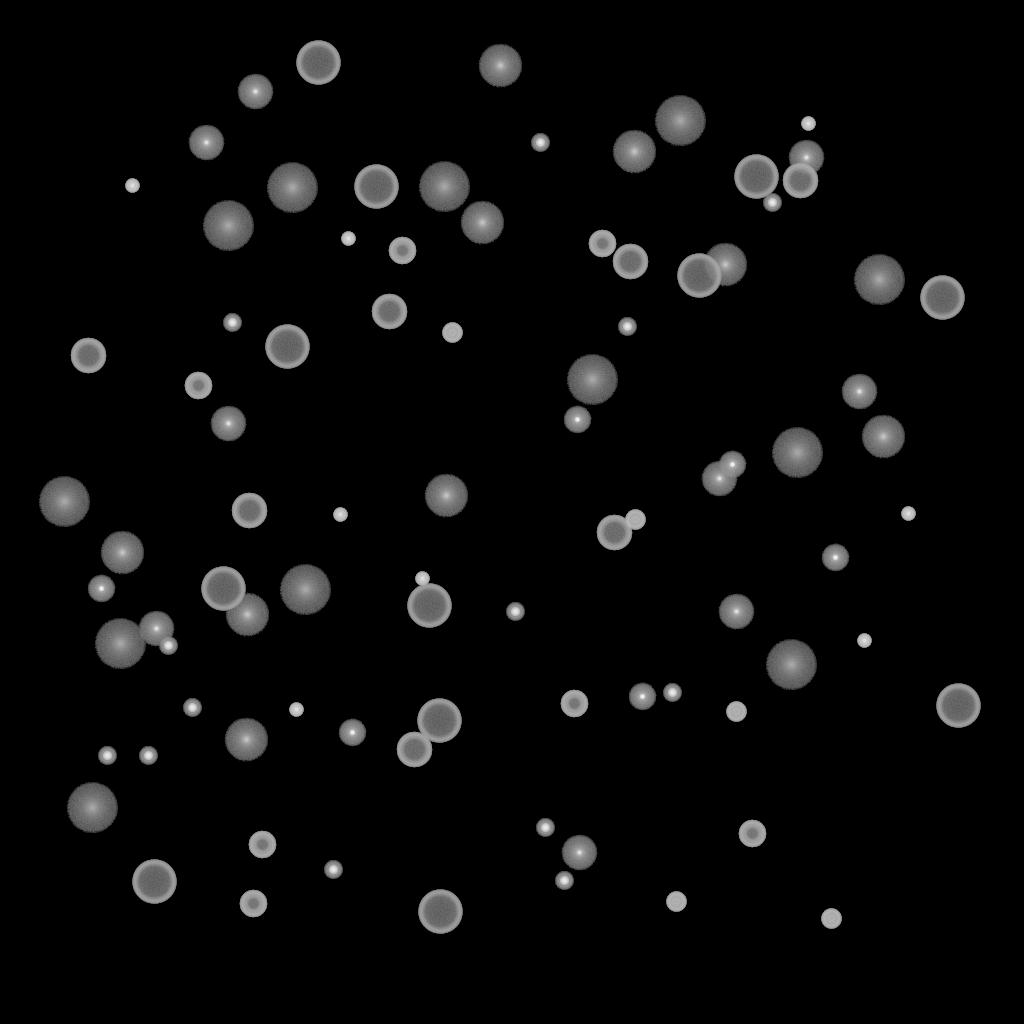depth:-10: (563, 406, 591, 434), (338, 719, 366, 747), (718, 451, 746, 479), (87, 575, 115, 603), (821, 544, 849, 572), (628, 683, 656, 711)
depth:-20: (531, 134, 549, 152), (183, 699, 201, 717), (618, 318, 636, 336), (663, 684, 681, 702), (159, 637, 177, 655), (324, 861, 342, 879), (223, 314, 241, 332), (139, 747, 157, 765), (555, 872, 573, 890), (506, 603, 524, 621), (763, 194, 781, 212), (536, 819, 554, 837), (98, 747, 116, 765)
depth:-30: (289, 703, 303, 717), (857, 634, 871, 648), (415, 572, 429, 586), (341, 232, 355, 246), (901, 507, 915, 521), (125, 179, 139, 193), (801, 117, 815, 131), (333, 508, 347, 522)
depth:-40: (625, 510, 645, 530), (821, 909, 841, 929), (666, 892, 686, 912), (442, 323, 462, 343), (726, 702, 746, 722)
depth:-50: (388, 237, 416, 265), (560, 690, 588, 718), (738, 820, 766, 848), (184, 372, 212, 400), (239, 890, 267, 918), (248, 831, 276, 859), (588, 230, 616, 258)
depth:-60: (231, 493, 267, 529), (371, 294, 407, 330), (612, 244, 648, 280), (596, 515, 632, 551), (782, 163, 818, 199), (70, 338, 106, 374), (396, 732, 432, 768)
depth:-70: (354, 165, 398, 209), (920, 276, 964, 320), (296, 41, 340, 85), (677, 254, 721, 298), (132, 860, 176, 904), (201, 567, 245, 611), (407, 584, 451, 628), (418, 890, 462, 934), (265, 325, 309, 369), (734, 155, 778, 199), (936, 684, 980, 728), (417, 699, 461, 743)
depth:0: (561, 835, 597, 871), (841, 374, 877, 410), (210, 406, 246, 442), (788, 140, 824, 176), (237, 74, 273, 110), (701, 461, 737, 497), (188, 125, 224, 161), (138, 611, 174, 647), (718, 594, 754, 630)
depth:10: (703, 243, 747, 287), (224, 718, 268, 762), (225, 593, 269, 637), (424, 474, 468, 518), (460, 201, 504, 245), (100, 531, 144, 575), (612, 130, 656, 174), (861, 415, 905, 459), (478, 44, 522, 88)
depth:20: (765, 640, 817, 690), (66, 783, 118, 833), (654, 96, 706, 146), (202, 201, 254, 251), (38, 477, 90, 527), (279, 565, 331, 615), (266, 163, 318, 213), (853, 255, 905, 305), (771, 428, 823, 478), (418, 162, 470, 212), (94, 619, 146, 669), (566, 355, 618, 405)
